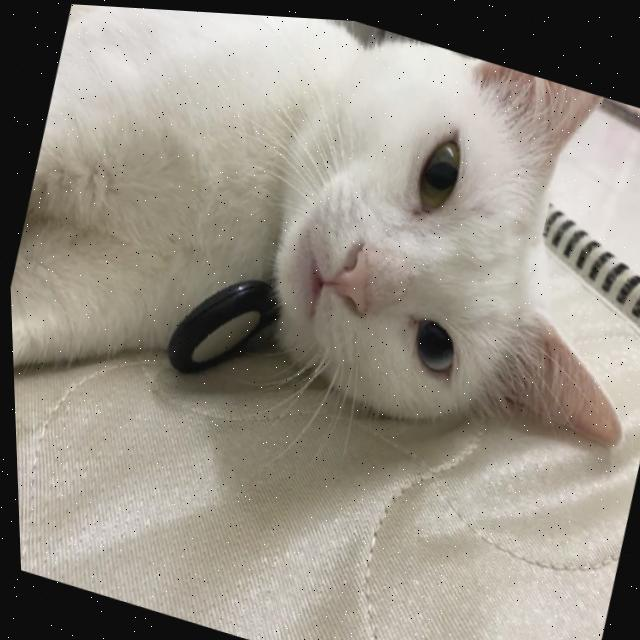Khao Manee: (0, 0, 640, 597)
